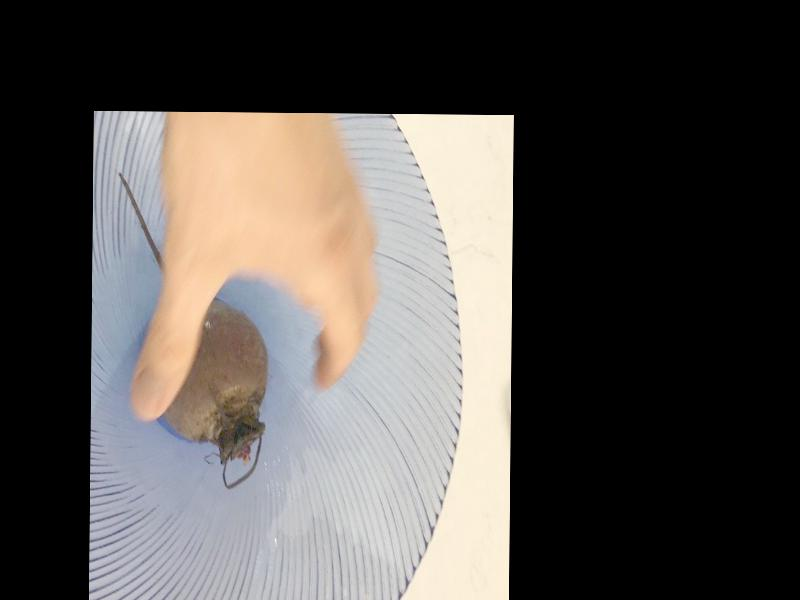Beet: (115, 173, 270, 489)
